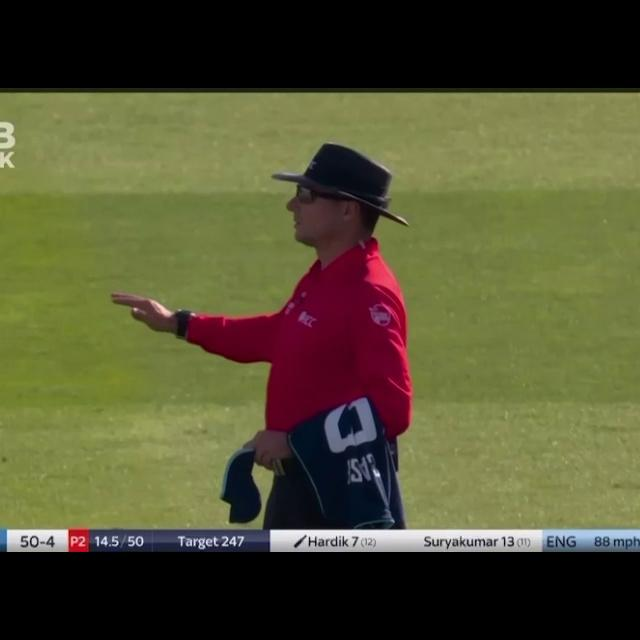umpire: (103, 124, 432, 534)
